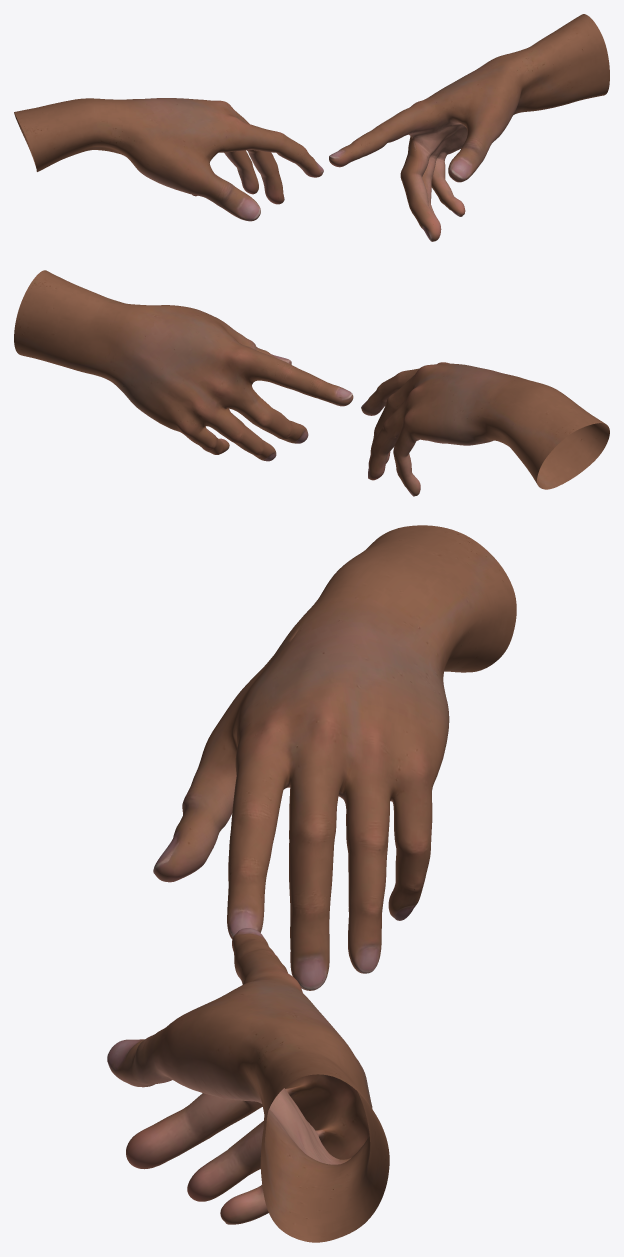
The model's file is hands_model-transformed.glb.
3 renders of one model, top to bottom at view 1: azimuth 30°, elevation 25°; view 2: azimuth 150°, elevation 25°; view 3: azimuth 270°, elevation 25°, orthographic. The views are drawn at different scales.
Visible parts, largest first — view 1: RightHand, LeftHand; view 2: RightHand, LeftHand; view 3: LeftHand, RightHand.
Boxes of the visible parts, x1,y1,x2,y2 form: RightHand: (329,14,609,241); LeftHand: (14,98,323,221); RightHand: (14,270,353,461); LeftHand: (361,362,609,496); LeftHand: (153,525,516,990); RightHand: (107,928,389,1242).
Bounding box in the file's own units: 4.54 × 1.35 × 1.44.
1 material, 1 textured.
